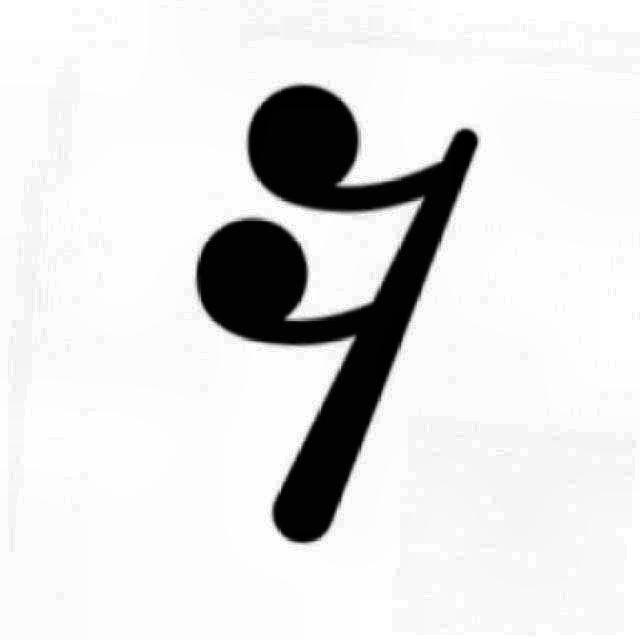Eighth-rest: (177, 71, 496, 555)
